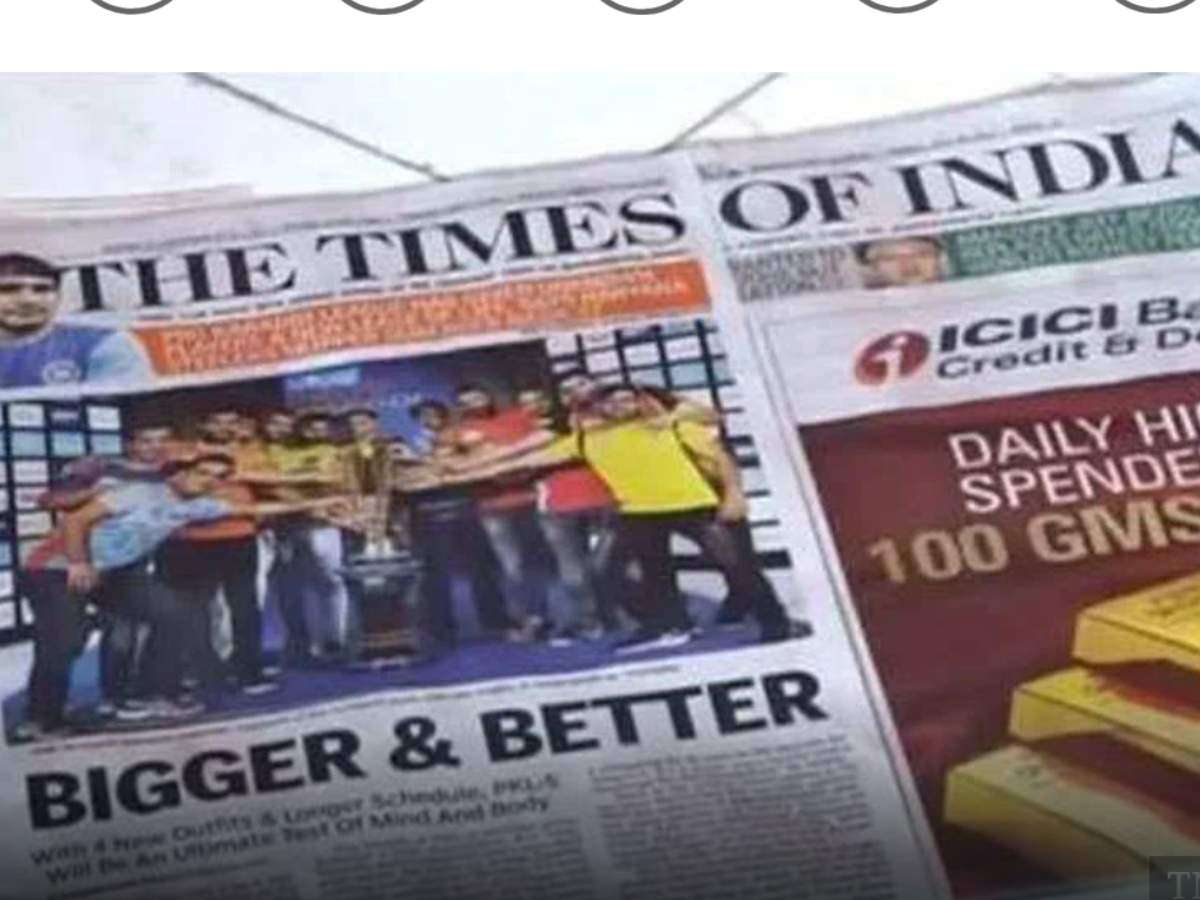news_paper: (2, 52, 1195, 895)
